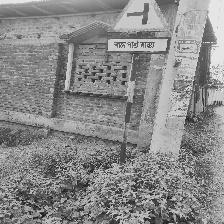Side-road-left: (111, 0, 174, 52)
